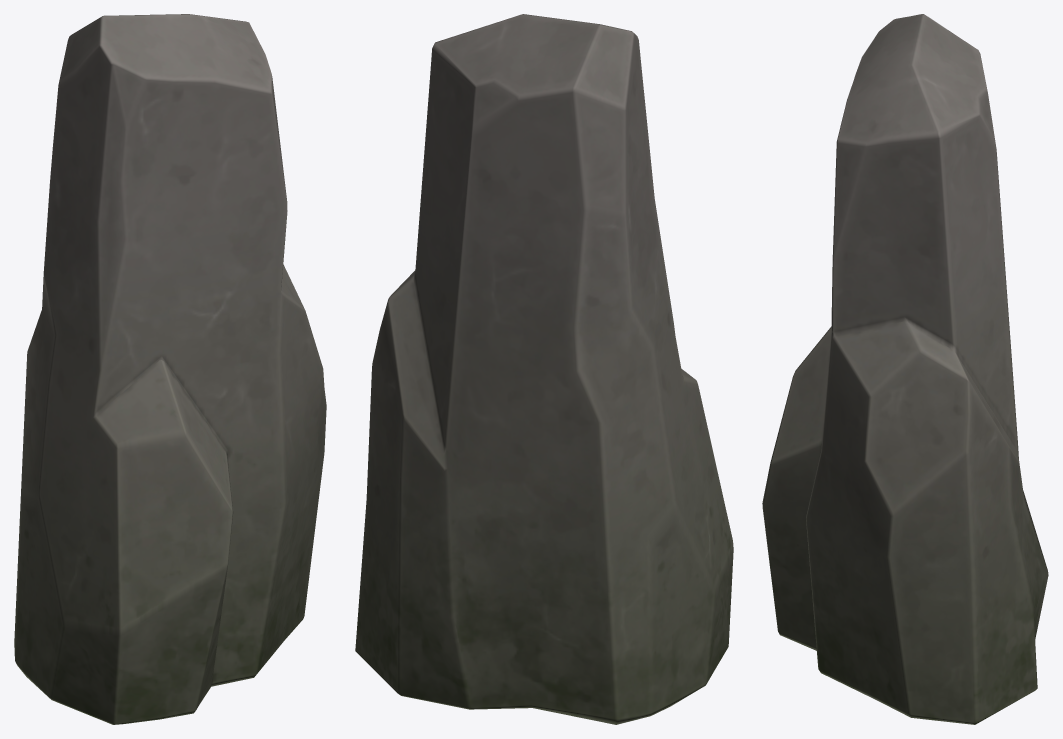
File: AP2_Rock10.glb
The picture shows the model from 3 angles, left to right: view 1: azimuth 30°, elevation 25°; view 2: azimuth 150°, elevation 25°; view 3: azimuth 270°, elevation 25°; orthographic projection. The views are drawn at different scales.
Visible parts, largest first — view 1: Rock10_LOD0; view 2: Rock10_LOD0; view 3: Rock10_LOD0.
Boxes of the visible parts, box(x1,y1,x2,y2) form: Rock10_LOD0: box(14, 14, 326, 724); Rock10_LOD0: box(355, 14, 733, 724); Rock10_LOD0: box(762, 14, 1048, 724).
Size of the model in its own units: 3.68 by 7.83 by 3.31.
Materials: 1 (1 with a texture image).
